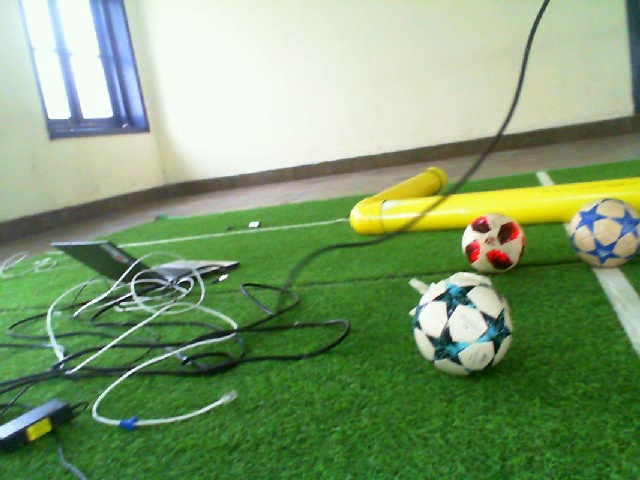ball: (411, 275, 519, 381), (565, 195, 640, 271), (458, 210, 528, 275)
